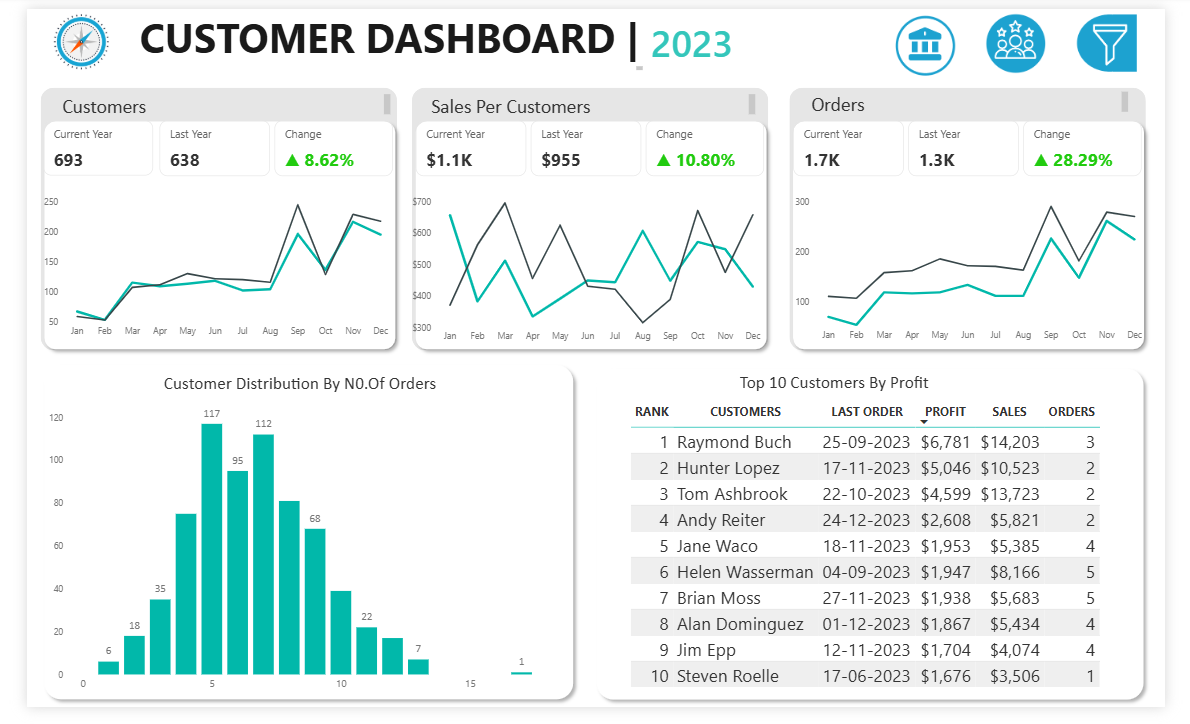

The page's visual inventory and layout, read from the dashboard file:
{"tool":"powerbi","page":{"name":"Customer Dashboard","canvas":[1400,860],"ordinal":6},"visuals":[{"type":"image","box":[0,0,133.9,80.7],"z":0,"group":"g10"},{"type":"group","id":"g1","title":"Name background","box":[16.9,96.9,1360,323.1],"z":0},{"type":"shape","box":[16.9,96.9,438.5,323.1],"z":0,"group":"g1"},{"type":"textbox","box":[38.5,100,413.8,36.9],"z":0,"group":"g11"},{"type":"shape","box":[11.7,130,450,298.6],"z":0,"group":"g4"},{"type":"group","id":"g2","title":"Viz-1","box":[16.1,137.3,438.6,276.4],"z":0,"group":"g9"},{"type":"lineChart","fields":{"Y":["Customers.Total Customers"],"Category":["Date table.Month"],"Y2":["Customers.PY Customers"]},"box":[16.1,223.7,438.6,190],"z":0,"group":"g2"},{"type":"lineChart","fields":{"Y":["Customers.Total Orders"],"Category":["Date table.Month"],"Y2":["Customers.PY Orders"]},"box":[941,223.7,442,195.7],"z":0,"group":"g7"},{"type":"lineChart","fields":{"Y":["Customers.Current Year Sales Per Customers"],"Category":["Date table.Month"],"Y2":["Customers.PY Sales Per Customers"]},"box":[469.7,224.2,442.9,197.1],"z":0,"group":"g5"},{"type":"group","id":"g3","title":"Viz-4","box":[21.5,443,638.5,406.3],"z":0,"group":"g8"},{"type":"textbox","box":[159.1,443,375.4,35.4],"z":0,"group":"g3"},{"type":"tableEx","fields":{"Values":["Customers.Profit Rank","Customers.Customer Name","Orders.Order Date","Customers.Total Profit","Customers.Total Sales","Customers.Distinct Order Count"]},"box":[737.6,478.9,618.5,369.2],"z":0,"group":"g6"},{"type":"textbox","title":"CUSTOMER DASHBOARD | ","box":[133.8,0,629.2,80],"z":1000,"group":"g10"},{"type":"shape","box":[473.8,96.9,438.5,323.1],"z":1000,"group":"g1"},{"type":"textbox","box":[492.3,100,409.2,36.9],"z":1000,"group":"g11"},{"type":"group","id":"g4","title":"Background","box":[11.7,130,1371.5,730.3],"z":1000},{"type":"shape","box":[468.9,130,450,298.6],"z":1000,"group":"g4"},{"type":"cardVisual","fields":{"Data":["Customers.Total Customers"]},"box":[20.8,137.3,135.3,68.3],"z":1000,"group":"g2"},{"type":"cardVisual","fields":{"Data":["Customers.Total Orders"]},"box":[943.9,137.3,135.7,68.6],"z":1000,"group":"g7"},{"type":"group","id":"g5","title":"Viz-2","box":[469.7,137.8,442.9,283.6],"z":1000,"group":"g9"},{"type":"cardVisual","fields":{"Data":["Customers.Current Year Sales Per Customers"]},"box":[478.3,137.8,135.7,68.6],"z":1000,"group":"g5"},{"type":"group","id":"g6","title":"Viz-5","box":[737.6,442.2,618.5,405.9],"z":1000,"group":"g8"},{"type":"textbox","box":[872.4,442.2,333.8,35.4],"z":1000,"group":"g6"},{"type":"columnChart","fields":{"Category":["Order Count.OrderCount"],"Y":["Customers.Customers by Order Count"]},"box":[21.5,473.9,638.5,375.4],"z":1000,"group":"g3"},{"type":"textbox","box":[763.1,10.8,133.8,69.2],"z":2000,"group":"g10"},{"type":"shape","box":[938.4,96.9,438.5,323.1],"z":2000,"group":"g1"},{"type":"textbox","box":[960,96.9,400,36.9],"z":2000,"group":"g11"},{"type":"shape","box":[933.1,130,450,298.6],"z":2000,"group":"g4"},{"type":"group","id":"g7","title":"Viz-3","box":[941,137.3,442,282.1],"z":2000,"group":"g9"},{"type":"cardVisual","fields":{"Data":["Customers.PY Orders"]},"box":[1085.3,137.3,135.7,68.6],"z":2000,"group":"g7"},{"type":"cardVisual","fields":{"Data":["Customers.PY Sales Per Customers"]},"box":[619.7,137.8,135.7,68.6],"z":2000,"group":"g5"},{"type":"cardVisual","fields":{"Data":["Customers.PY Customers"]},"box":[163.2,138,135.7,68.6],"z":2000,"group":"g2"},{"type":"group","id":"g8","title":"Bottom vizs","box":[21.5,442.2,1334.6,407.1],"z":2000},{"type":"image","box":[1050,3,111.1,85],"z":3000,"group":"g10"},{"type":"group","id":"g9","title":"Top vizs","box":[16.1,137.3,1367.1,283.4],"z":3000},{"type":"cardVisual","fields":{"Data":["Customers.YoY Orders Growth"]},"box":[1226.7,137.3,145.7,68.6],"z":3000,"group":"g7"},{"type":"cardVisual","fields":{"Data":["Customers.YoY Sales Per Customer Growth"]},"box":[762.6,137.8,145.7,68.6],"z":3000,"group":"g5"},{"type":"cardVisual","fields":{"Data":["Customers.YoY Customers Growth"]},"box":[304.7,138,145.7,68.6],"z":3000,"group":"g2"},{"type":"shape","box":[11.7,430.5,669,429.4],"z":3000,"group":"g4"},{"type":"group","id":"g10","title":"Title Bar","box":[0,0,1383.3,88],"z":4000},{"type":"image","box":[1161.1,0,111.1,85],"z":4000,"group":"g10"},{"type":"shape","box":[692.2,434.9,690.9,425],"z":4000,"group":"g4"},{"type":"image","box":[1272.2,0,111.1,85],"z":5000,"group":"g10"},{"type":"group","id":"g11","title":"Sub Titles","box":[38.5,96.9,1321.5,40],"z":5000}]}

Visuals, with their boxes in screenshot pixels (x1, y1, x2, y2), scaled from the page's 1400x860 canvas onto the 1190x724 screenshot:
image: select_region(0, 0, 114, 68)
"Name background" group: select_region(14, 82, 1170, 354)
shape: select_region(14, 82, 387, 354)
textbox: select_region(33, 84, 384, 115)
shape: select_region(10, 109, 392, 361)
"Viz-1" group: select_region(14, 116, 386, 348)
lineChart - Customers.Total Customers x Date table.Month: select_region(14, 188, 386, 348)
lineChart - Customers.Total Orders x Date table.Month: select_region(800, 188, 1176, 353)
lineChart - Customers.Current Year Sales Per Customers x Date table.Month: select_region(399, 189, 776, 355)
"Viz-4" group: select_region(18, 373, 561, 715)
textbox: select_region(135, 373, 454, 403)
tableEx - Customers.Profit Rank x Customers.Customer Name: select_region(627, 403, 1153, 714)
"CUSTOMER DASHBOARD | " textbox: select_region(114, 0, 649, 67)
shape: select_region(403, 82, 775, 354)
textbox: select_region(418, 84, 766, 115)
"Background" group: select_region(10, 109, 1176, 723)
shape: select_region(399, 109, 781, 361)
cardVisual - Customers.Total Customers: select_region(18, 116, 133, 173)
cardVisual - Customers.Total Orders: select_region(802, 116, 918, 173)
"Viz-2" group: select_region(399, 116, 776, 355)
cardVisual - Customers.Current Year Sales Per Customers: select_region(407, 116, 522, 174)
"Viz-5" group: select_region(627, 372, 1153, 714)
textbox: select_region(742, 372, 1025, 402)
columnChart - Order Count.OrderCount x Customers.Customers by Order Count: select_region(18, 399, 561, 715)
textbox: select_region(649, 9, 762, 67)
shape: select_region(798, 82, 1170, 354)
textbox: select_region(816, 82, 1156, 113)
shape: select_region(793, 109, 1176, 361)
"Viz-3" group: select_region(800, 116, 1176, 353)
cardVisual - Customers.PY Orders: select_region(923, 116, 1038, 173)
cardVisual - Customers.PY Sales Per Customers: select_region(527, 116, 642, 174)
cardVisual - Customers.PY Customers: select_region(139, 116, 254, 174)
"Bottom vizs" group: select_region(18, 372, 1153, 715)
image: select_region(892, 3, 987, 74)
"Top vizs" group: select_region(14, 116, 1176, 354)
cardVisual - Customers.YoY Orders Growth: select_region(1043, 116, 1167, 173)
cardVisual - Customers.YoY Sales Per Customer Growth: select_region(648, 116, 772, 174)
cardVisual - Customers.YoY Customers Growth: select_region(259, 116, 383, 174)
shape: select_region(10, 362, 579, 723)
"Title Bar" group: select_region(0, 0, 1176, 74)
image: select_region(987, 0, 1081, 72)
shape: select_region(588, 366, 1176, 723)
image: select_region(1081, 0, 1176, 72)
"Sub Titles" group: select_region(33, 82, 1156, 115)
